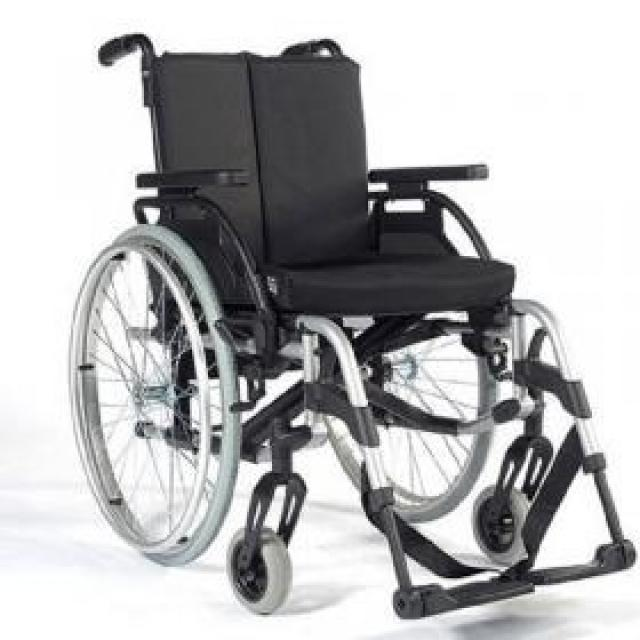wheelchair: (54, 13, 640, 630)
